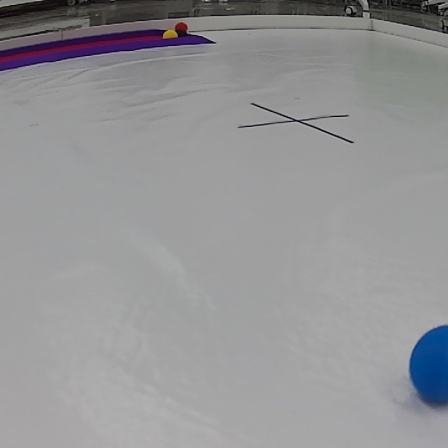black: (177, 30, 192, 38)
blue: (403, 328, 448, 408)
red: (175, 20, 191, 31)
red_aim: (0, 24, 222, 74)
yellow: (161, 29, 179, 42)
